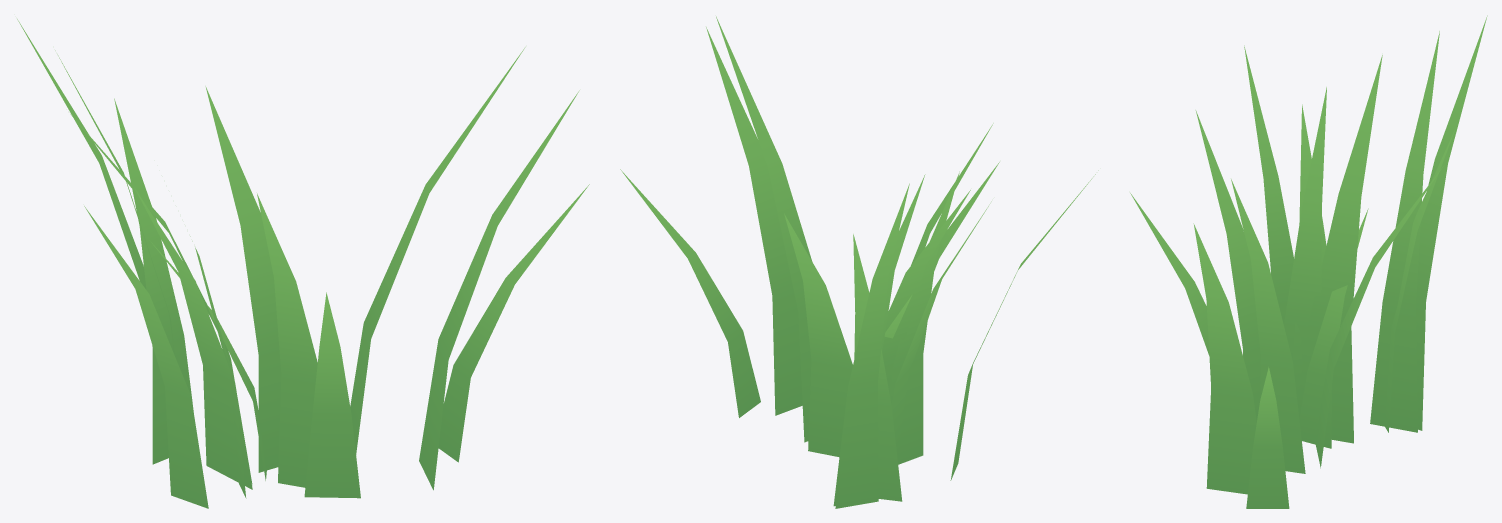
File: grass.glb
3 views of the same model, side by side, from view 1: azimuth 30°, elevation 25°; view 2: azimuth 150°, elevation 25°; view 3: azimuth 270°, elevation 25° (orthographic). The views are drawn at different scales.
Parts seen in each view (by area): view 1: grass:mesh; view 2: grass:mesh; view 3: grass:mesh.
Part boxes in pixels (x1,y1,x2,y2): grass:mesh: (17,19,589,508); grass:mesh: (620,16,1098,508); grass:mesh: (1130,15,1487,508).
Size of the model in its own units: 0.6364 by 0.4909 by 0.4365.
